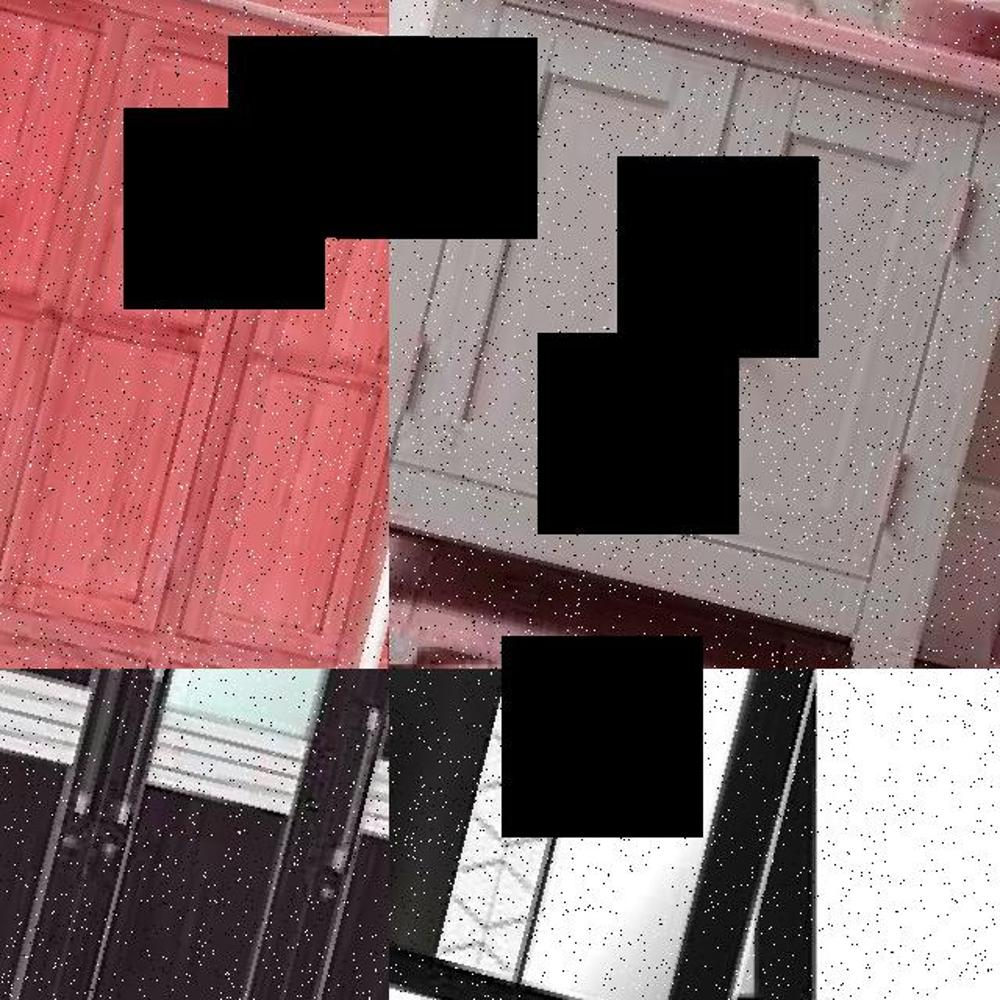cabinet: (389, 0, 1000, 669), (0, 0, 389, 669), (389, 669, 869, 1000), (0, 669, 389, 1000)
